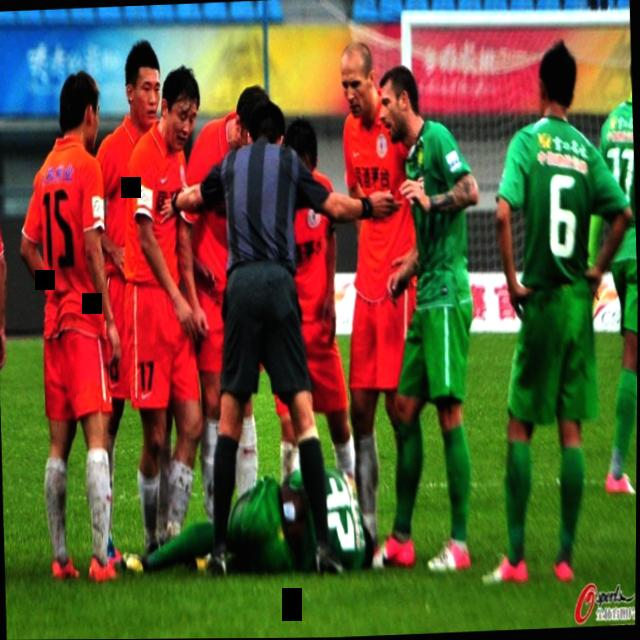Fall-Detected: (122, 445, 379, 591)
